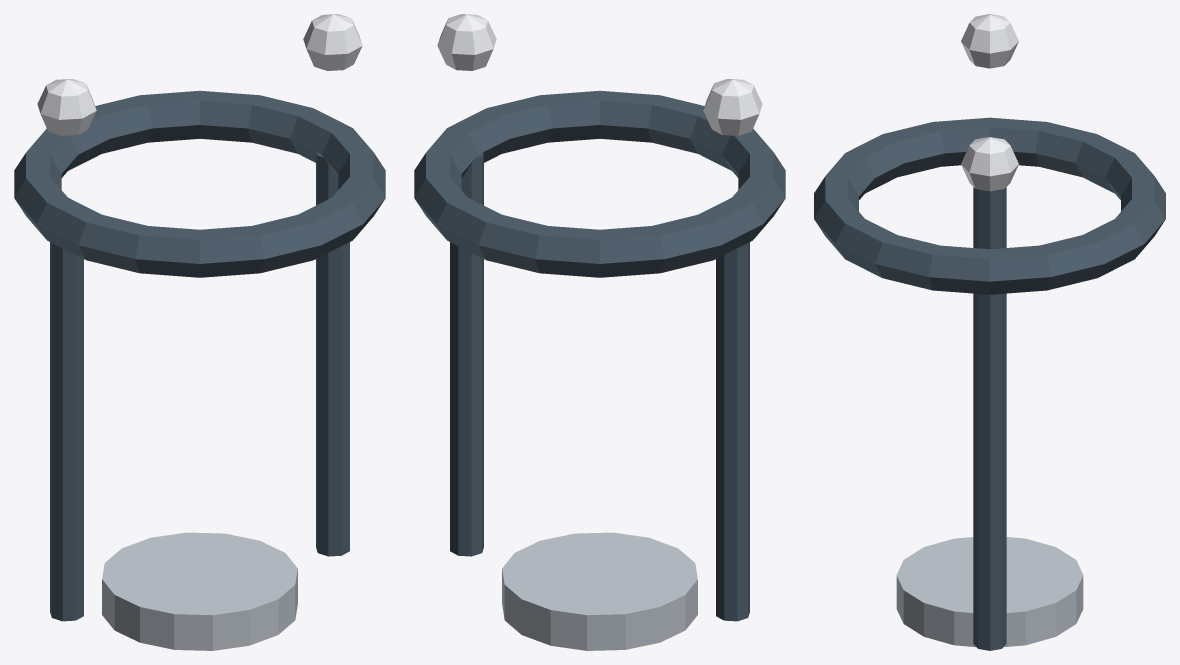
Rendered from prop_stethoscope.glb.
3 renders of one model, left to right at view 1: azimuth 30°, elevation 25°; view 2: azimuth 150°, elevation 25°; view 3: azimuth 270°, elevation 25°, orthographic. The views are drawn at different scales.
Parts seen in each view (by area): view 1: NeckTube, ChestPiece, TubeL, TubeR, EarL, EarR; view 2: NeckTube, ChestPiece, TubeL, TubeR, EarL, EarR; view 3: NeckTube, ChestPiece, TubeR, EarL, EarR, TubeL.
Boxes of the visible parts, bbox=[...] form: NeckTube: bbox=[14, 90, 385, 277]; ChestPiece: bbox=[102, 532, 297, 650]; TubeL: bbox=[50, 242, 83, 621]; TubeR: bbox=[316, 152, 349, 556]; EarL: bbox=[37, 79, 96, 135]; EarR: bbox=[303, 14, 362, 70]; NeckTube: bbox=[414, 90, 785, 277]; ChestPiece: bbox=[502, 532, 697, 650]; TubeL: bbox=[716, 242, 749, 621]; TubeR: bbox=[450, 152, 483, 556]; EarL: bbox=[703, 79, 762, 135]; EarR: bbox=[437, 14, 496, 70]; NeckTube: bbox=[814, 117, 1165, 294]; ChestPiece: bbox=[896, 537, 1083, 647]; TubeR: bbox=[973, 293, 1006, 650]; EarL: bbox=[961, 14, 1018, 68]; EarR: bbox=[961, 137, 1018, 191]; TubeL: bbox=[973, 187, 1006, 249].
Bounding box in the file's own units: 0.172 × 0.283 × 0.1694.
